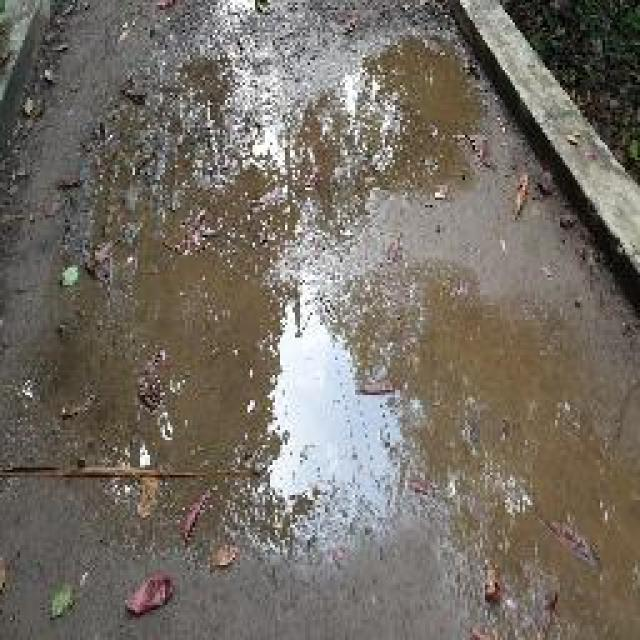stagnation: (100, 42, 640, 579)
